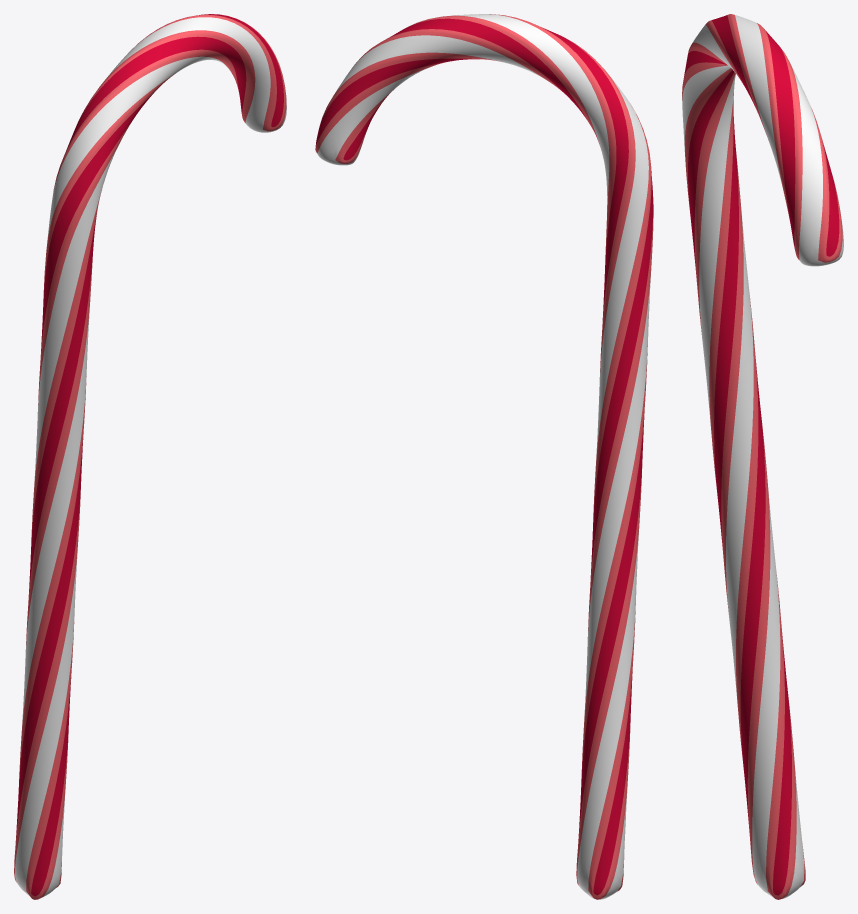
Rendered from CandyCane_mdl.fbx.
3 renders of one model, left to right at view 1: azimuth 30°, elevation 25°; view 2: azimuth 150°, elevation 25°; view 3: azimuth 270°, elevation 25°, orthographic. The views are drawn at different scales.
Visible parts, largest first — view 1: Cane; view 2: Cane; view 3: Cane.
Part boxes in pixels (left/top/right/bottom): Cane: left=14, top=14, right=286, bottom=899; Cane: left=315, top=14, right=653, bottom=899; Cane: left=682, top=14, right=843, bottom=899.
Size of the model in its own units: 28.2 by 80.02 by 12.59.
